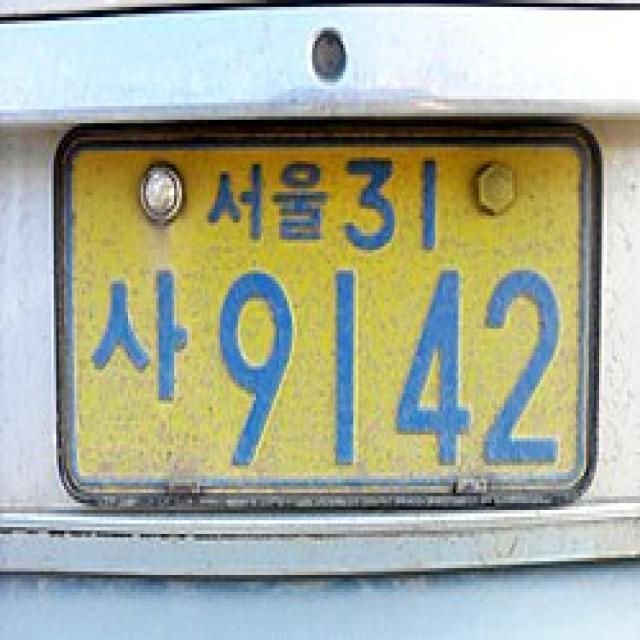car: (26, 87, 626, 575)
